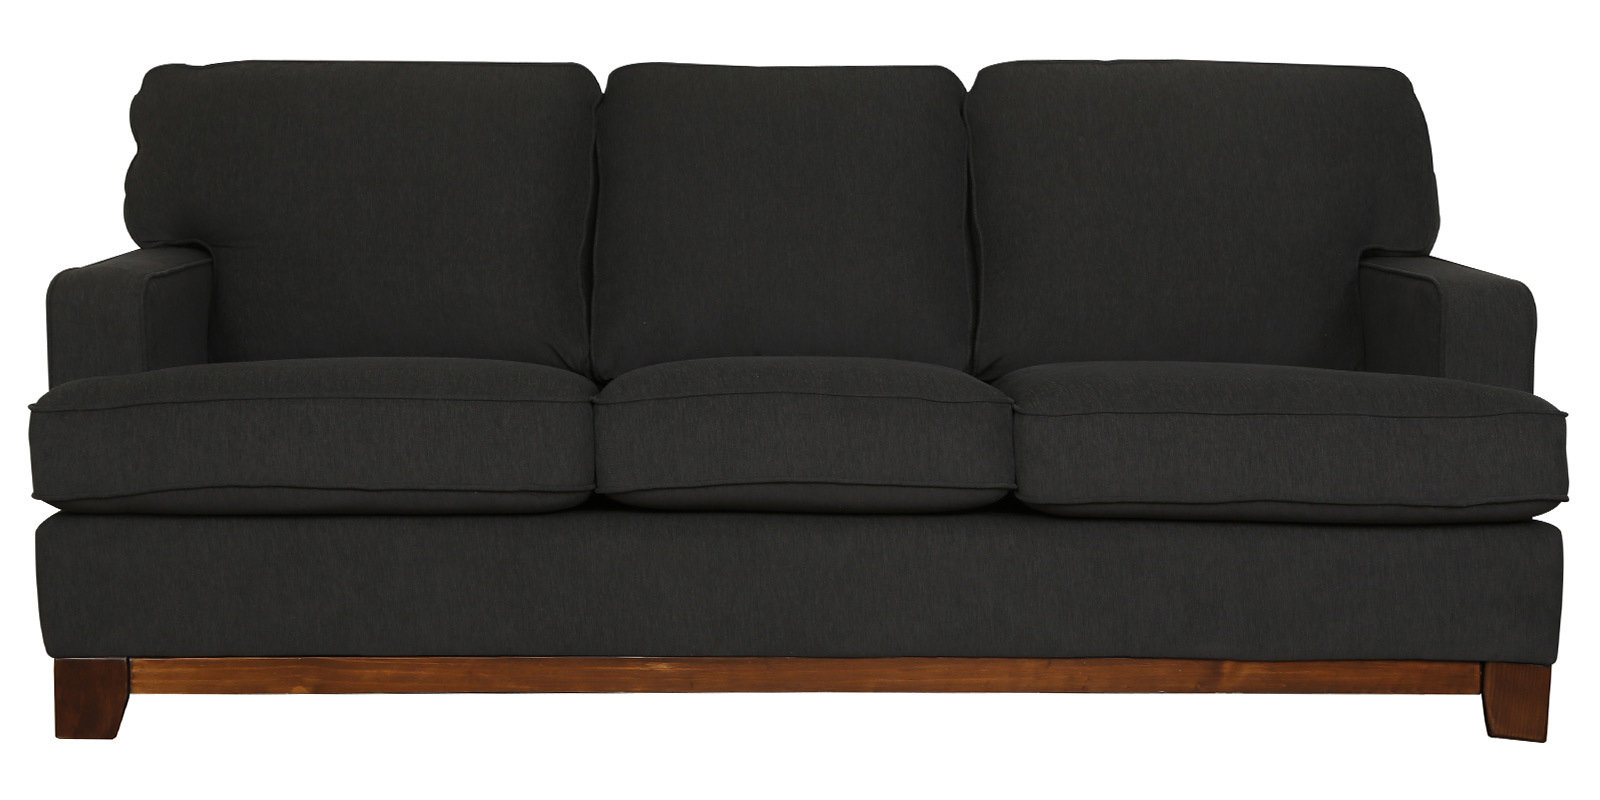Parana Three Seater Sofa in Charcoal Grey Color by CasaCraft: (26, 62, 1569, 739)
